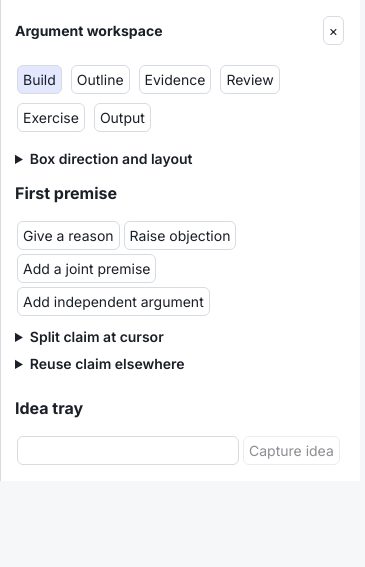
passes selected image format and endpoint policy to export
Later steps or results of the test are not shown.
Click the button "Output". click: (122, 118)
box: [94, 103, 151, 132]
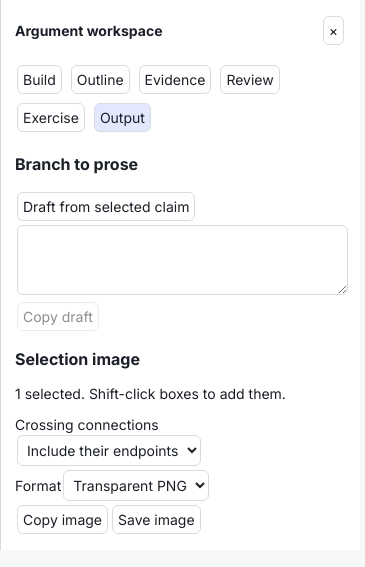
Select "Include their endpoints" in the dropdown labelled "Crossing connections". click: (109, 450)
box: [17, 435, 201, 466]
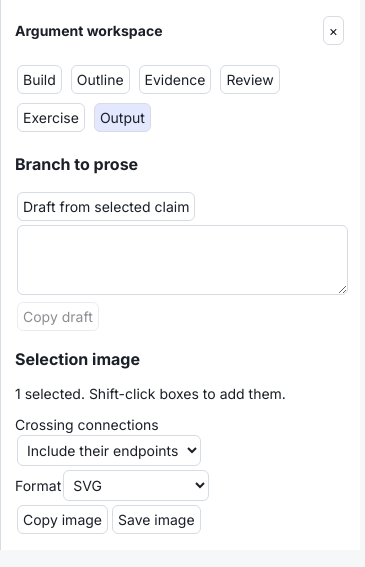
Select "SVG" in the dropdown labelled "Format". click: (136, 486)
box: [63, 470, 209, 501]
Result: the button "Save image" is shown at [112, 505, 201, 534]
